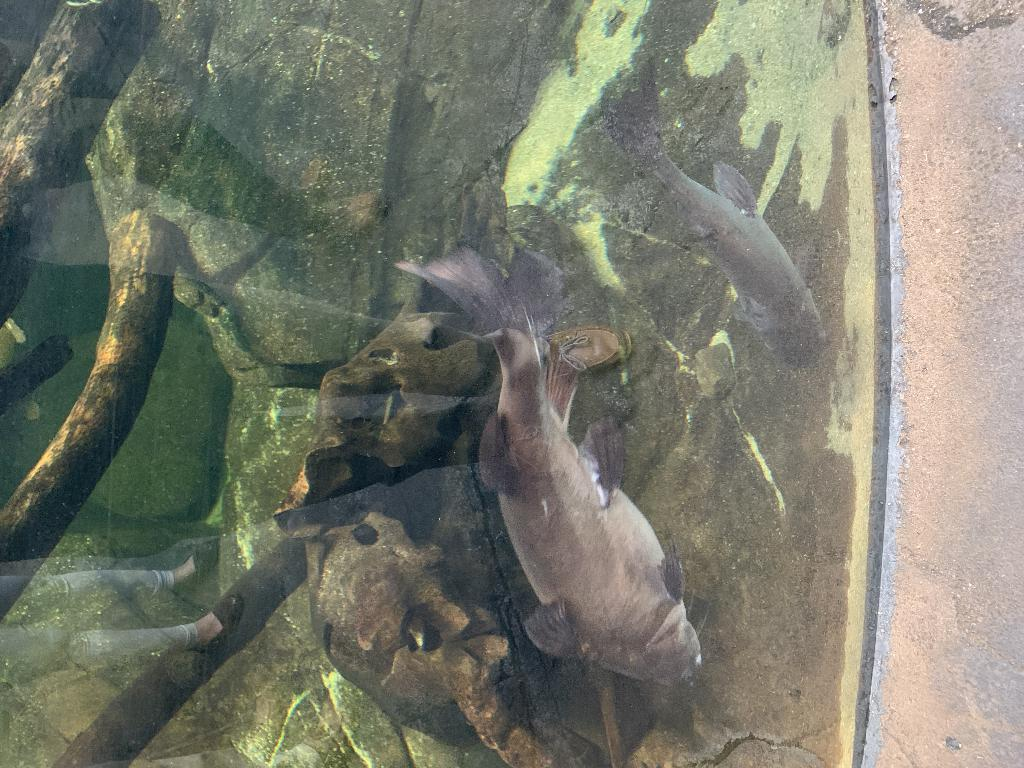fish: (394, 240, 706, 694), (602, 78, 830, 378)
